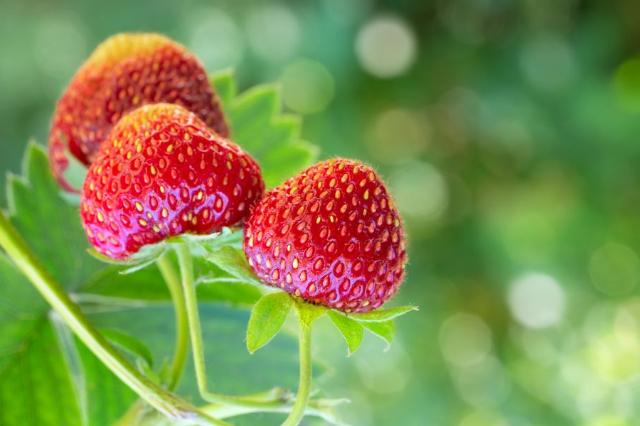Strawberries: (48, 31, 230, 195), (80, 103, 262, 259), (246, 160, 410, 314)
